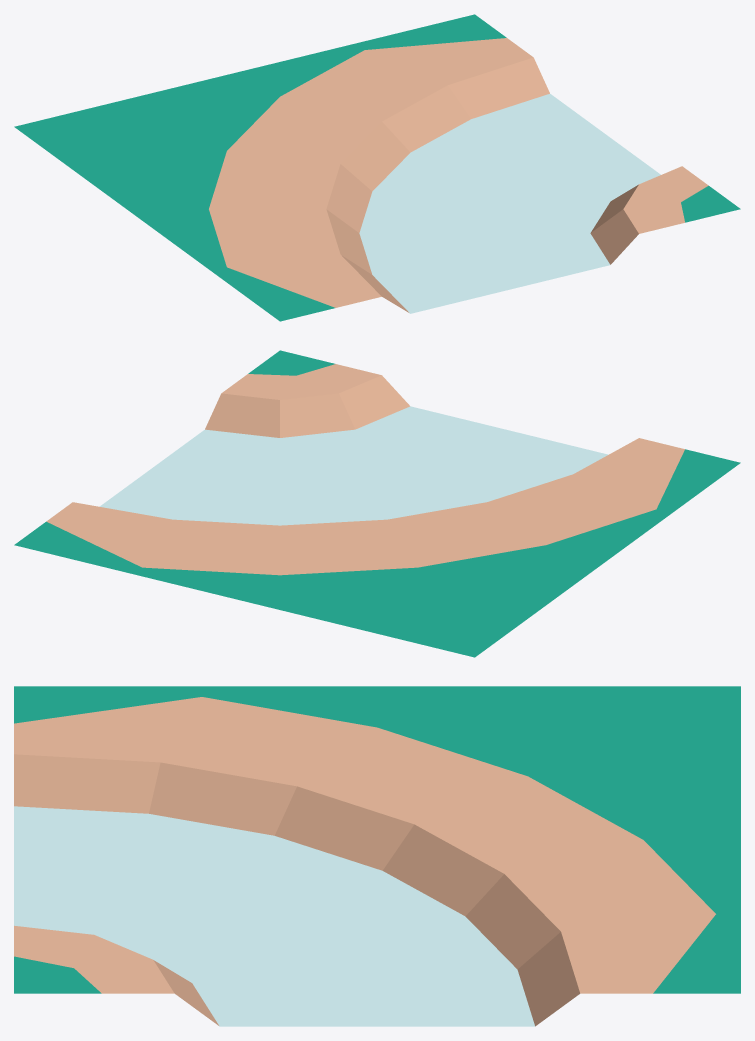
Rendered from ground_riverBendBank.glb.
3 renders of one model, top to bottom at view 1: azimuth 30°, elevation 25°; view 2: azimuth 150°, elevation 25°; view 3: azimuth 270°, elevation 25°, orthographic. The views are drawn at different scales.
Visible parts, largest first — view 1: ground_riverBendBank; view 2: ground_riverBendBank; view 3: ground_riverBendBank.
Part boxes in pixels (x1,y1,x2,y2): ground_riverBendBank: (14,14,740,321); ground_riverBendBank: (14,350,740,657); ground_riverBendBank: (14,686,740,1026).
Bounding box in the file's own units: 1.2 × 0.06 × 1.2.
